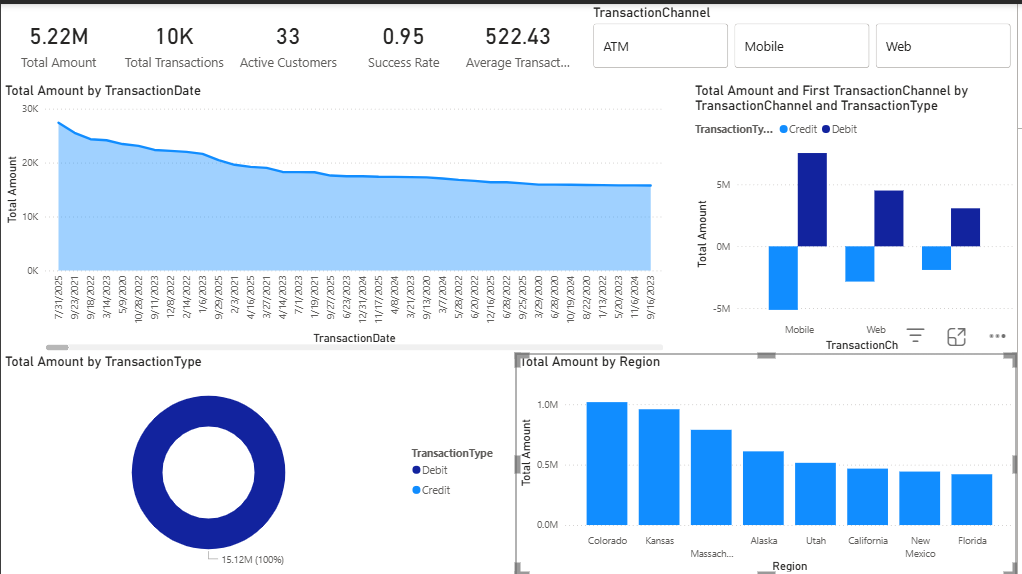

This screenshot's page, from the dashboard's own definition file:
{"tool":"powerbi","page":{"name":"Executive Overview","canvas":[1280,720],"ordinal":0},"visuals":[{"type":"card","fields":{"Values":["DimAccount.Total Amount"]},"box":[0,0,144.8,97.6],"z":0},{"type":"card","fields":{"Values":["DimAccount.Active Customers"]},"box":[289.5,0,144.8,97.6],"z":1},{"type":"card","fields":{"Values":["DimAccount.Total Transactions"]},"box":[144.8,0,144.8,97.6],"z":2},{"type":"card","fields":{"Values":["DimAccount.Success Rate"]},"box":[434.3,0,144.8,97.6],"z":3},{"type":"card","fields":{"Values":["DimAccount.Average Transaction Value:Avg Transaction"]},"box":[579,0,144.8,97.6],"z":4},{"type":"donutChart","fields":{"Category":["FactTransaction.TransactionType"],"Y":["DimAccount.Total Amount"]},"box":[0,440.8,639.2,279.8],"z":7},{"type":"clusteredColumnChart","fields":{"Category":["DimCustomer.Region"],"Y":["DimAccount.Total Amount"]},"box":[647.4,440.8,632.7,279.8],"z":8},{"type":"areaChart","fields":{"Category":["FactTransaction.TransactionDate"],"Y":["DimAccount.Total Amount"]},"box":[0,97.6,839.3,343.2],"z":9},{"type":"clusteredColumnChart","fields":{"Category":["FactTransaction.TransactionChannel"],"Y":["DimAccount.Total Amount"],"Series":["FactTransaction.TransactionType"]},"box":[868.6,97.6,411.5,343.2],"z":10},{"type":"advancedSlicerVisual","fields":{"Values":["FactTransaction.TransactionChannel"]},"box":[741.7,0,538.4,86.2],"z":11}]}

Visuals, with their boxes in screenshot pixels (x1, y1, x2, y2), scaled from the page's 1280x720 canvas onto the 1022x574 screenshot:
card - DimAccount.Total Amount: (x1=0, y1=0, x2=116, y2=78)
card - DimAccount.Active Customers: (x1=231, y1=0, x2=347, y2=78)
card - DimAccount.Total Transactions: (x1=116, y1=0, x2=231, y2=78)
card - DimAccount.Success Rate: (x1=347, y1=0, x2=462, y2=78)
card - DimAccount.Average Transaction Value:Avg Transaction: (x1=462, y1=0, x2=578, y2=78)
donutChart - FactTransaction.TransactionType x DimAccount.Total Amount: (x1=0, y1=351, x2=510, y2=573)
clusteredColumnChart - DimCustomer.Region x DimAccount.Total Amount: (x1=517, y1=351, x2=1021, y2=573)
areaChart - FactTransaction.TransactionDate x DimAccount.Total Amount: (x1=0, y1=78, x2=670, y2=351)
clusteredColumnChart - FactTransaction.TransactionChannel x DimAccount.Total Amount: (x1=694, y1=78, x2=1021, y2=351)
advancedSlicerVisual - FactTransaction.TransactionChannel: (x1=592, y1=0, x2=1021, y2=69)
